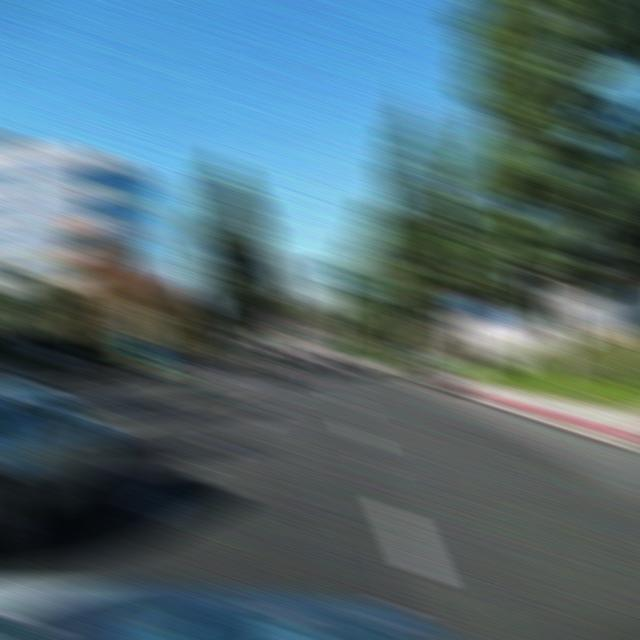speedLimit35: (122, 300, 157, 334)
